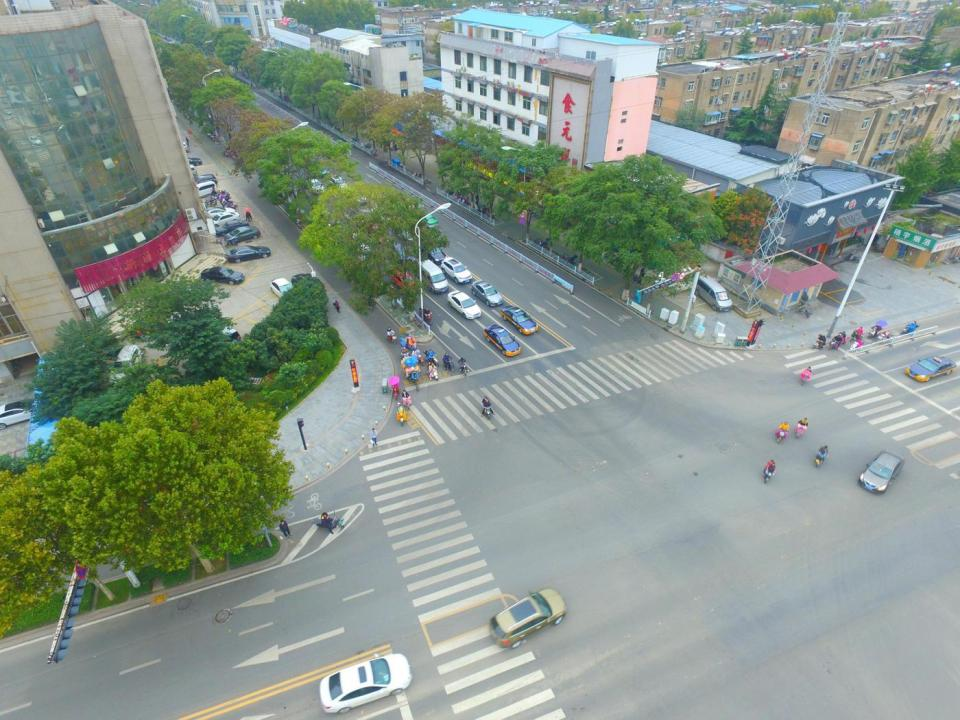car: (317, 653, 412, 717), (487, 584, 566, 648), (857, 449, 907, 493), (903, 354, 959, 382), (109, 344, 144, 388), (0, 398, 41, 430), (485, 322, 522, 357), (499, 304, 539, 336), (446, 289, 481, 321), (470, 278, 505, 306), (198, 266, 246, 286), (290, 272, 326, 298), (270, 276, 301, 304), (440, 257, 473, 283), (225, 245, 271, 263), (386, 215, 416, 242), (391, 238, 418, 267), (418, 240, 448, 265), (364, 221, 393, 246), (347, 232, 377, 256), (222, 225, 262, 243), (390, 269, 418, 293), (208, 212, 241, 230), (307, 154, 331, 178), (415, 206, 440, 229), (212, 220, 250, 235), (201, 206, 236, 222), (168, 152, 203, 168), (343, 186, 369, 207), (158, 137, 190, 154), (302, 175, 326, 195), (328, 174, 349, 193), (187, 174, 218, 184)
van: (193, 317, 246, 354), (694, 274, 734, 313), (417, 258, 450, 294), (169, 160, 198, 179), (188, 180, 217, 197)
